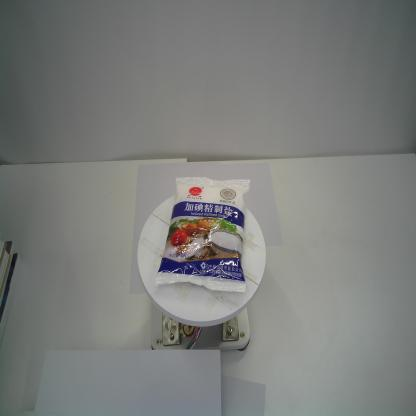Seasoner: (155, 176, 250, 294)
